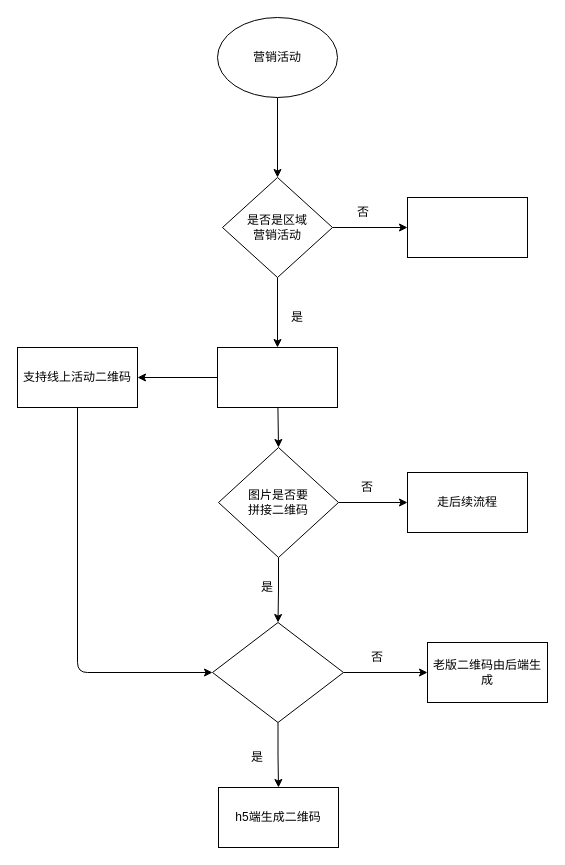
Some shapes in this 565 by 865 pixel diagram are drawn without their labels. Each missing label, with the box of its shape:
(区域营销活动) 走新的流程: (216, 346, 338, 408)
是否是新版 魔方活动二维码: (212, 622, 344, 722)
走之前的流程不变: (406, 196, 528, 258)
